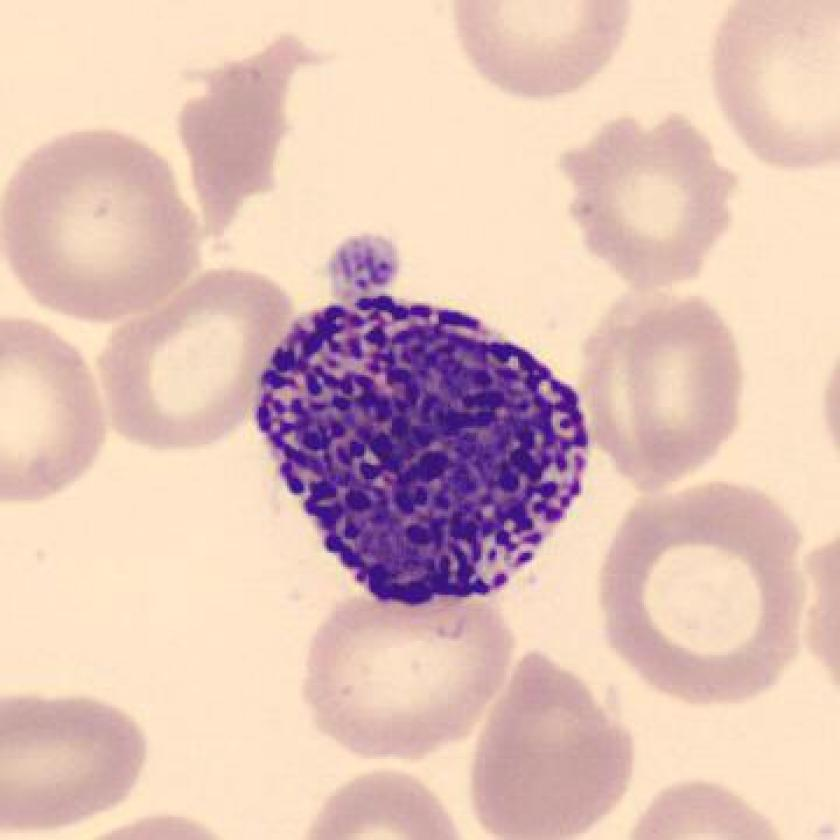basophil: (244, 295, 598, 614)
